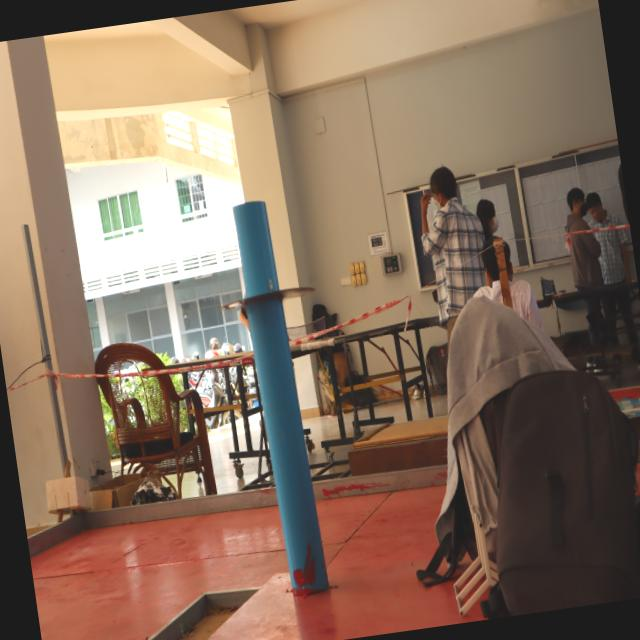pole: (200, 185, 337, 440)
